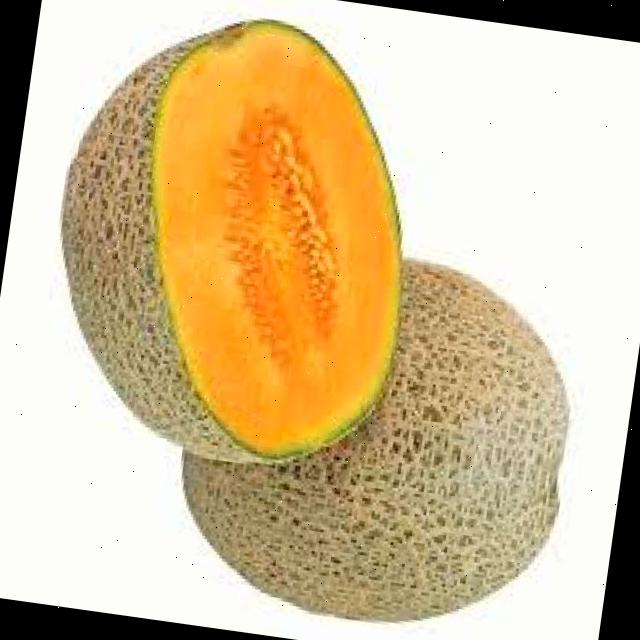Hami Melon: (32, 0, 438, 485), (166, 235, 592, 640)
